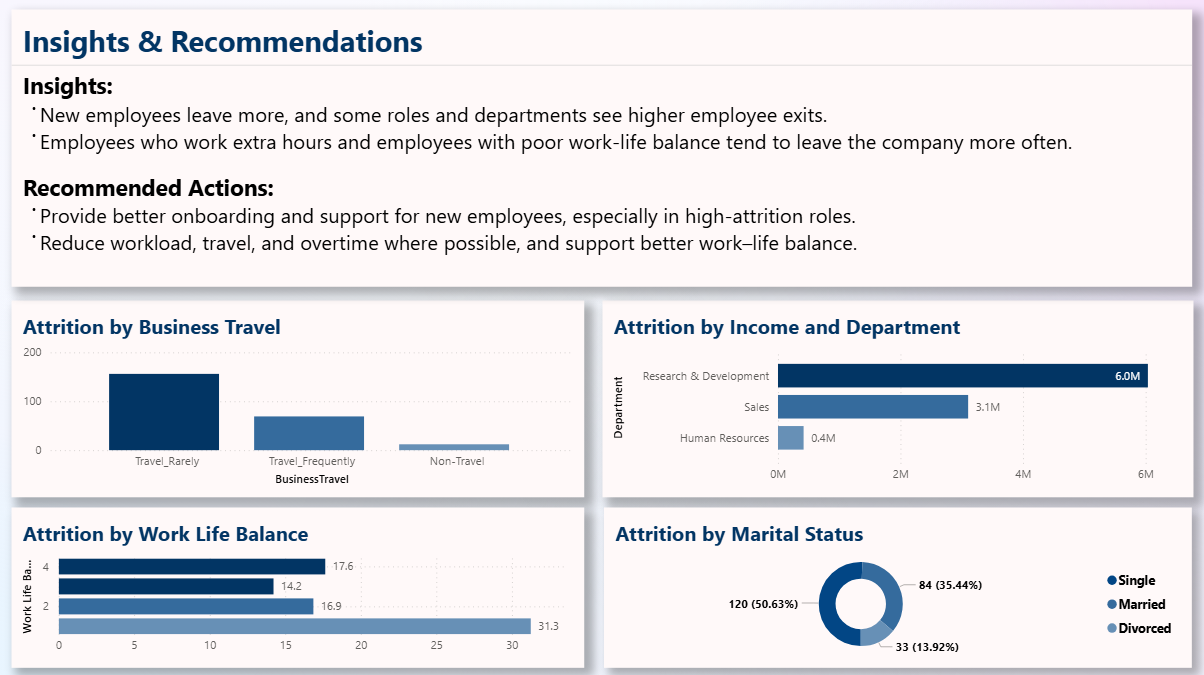

What the dashboard file says about the page in this screenshot:
{"tool":"powerbi","page":{"name":"Attrition Drivers","canvas":[1280,720],"ordinal":1},"visuals":[{"type":"columnChart","title":"Attrition by Business Travel","fields":{"Category":["HR Data.BusinessTravel"],"Y":["HR Data.Attrition Count"]},"box":[14.3,319.7,607.6,208.4],"z":0},{"type":"barChart","title":"Attrition by Work Life Balance","fields":{"Category":["HR Data.Work Life Balance"],"Y":["HR Data.Attrition Count"]},"box":[14.3,539.2,607.6,170.2],"z":1000},{"type":"clusteredBarChart","title":"Attrition by Income and Department","fields":{"Category":["HR Data.Department"],"Y":["Sum(HR Data.Monthly Income)"]},"box":[641,319.7,626.7,208.4],"z":2000},{"type":"donutChart","title":"Attrition by Marital Status","fields":{"Y":["HR Data.Attrition Count"],"Category":["HR Data.MaritalStatus"]},"box":[642.6,539.2,623.5,170.2],"z":3000},{"type":"textbox","title":"Insights & Recommendations","box":[14.3,11.1,1251.8,294.3],"z":4000}]}

Visuals, with their boxes in screenshot pixels (x1, y1, x2, y2), scaled from the page's 1280x720 canvas onto the 1204x675 screenshot:
"Attrition by Business Travel" columnChart: l=13, t=300, r=585, b=495
"Attrition by Work Life Balance" barChart: l=13, t=506, r=585, b=665
"Attrition by Income and Department" clusteredBarChart: l=603, t=300, r=1192, b=495
"Attrition by Marital Status" donutChart: l=604, t=506, r=1191, b=665
"Insights & Recommendations" textbox: l=13, t=10, r=1191, b=286
